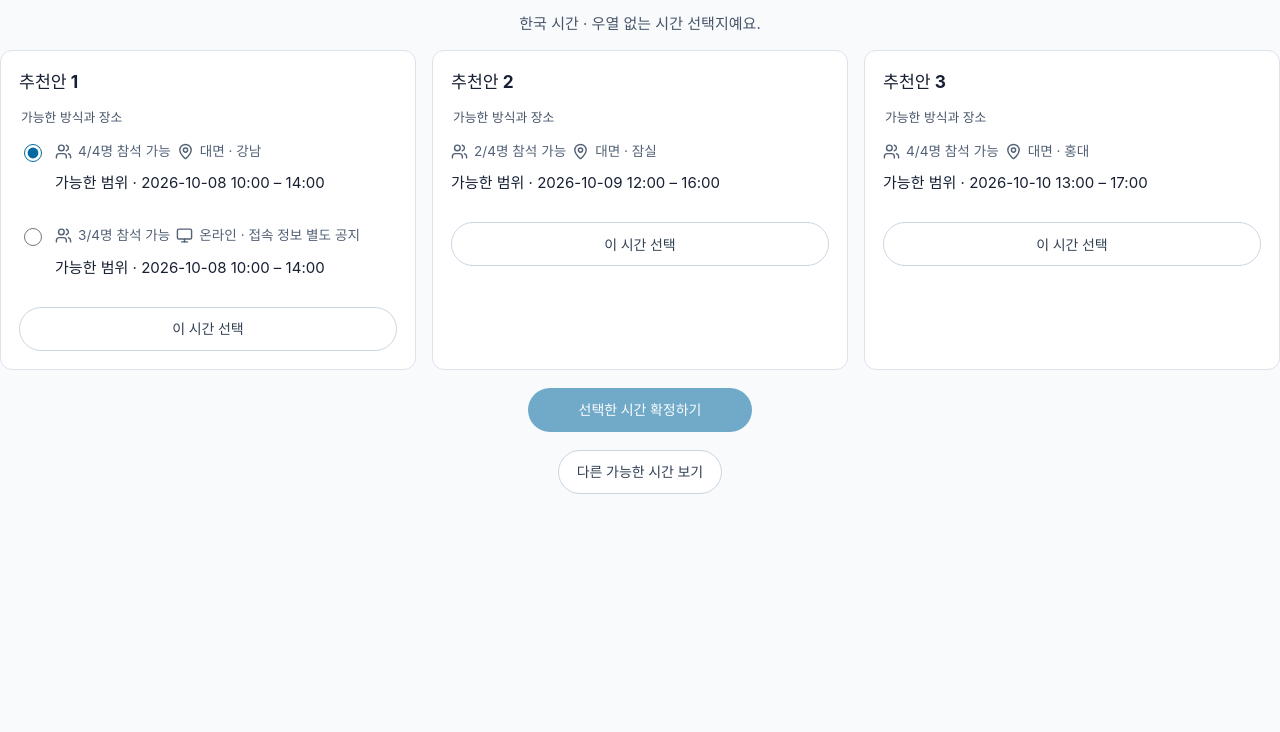
#19 recommendations as distinct offered times › limits primary recommendations to three and reveals overflow only on explicit request
This screenshot has width=1280, height=732.
Expected: the heading "다른 가능한 시간 4" is not shown
Expected: the text "건대" is not shown
Step 1. Click the button "다른 가능한 시간 보기" → (640, 472), box [558,450,722,494]
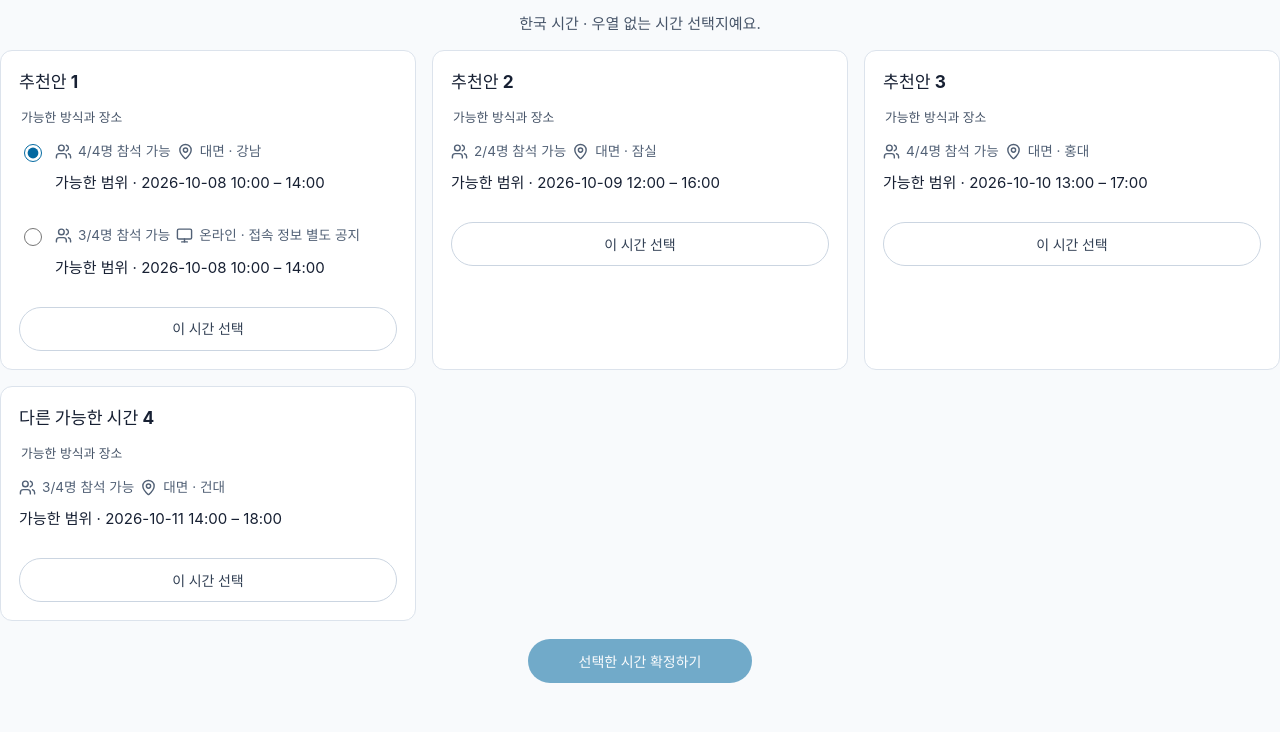
Now the heading "다른 가능한 시간 4" is shown, box [19,407,154,428]
Now the text "대면 · 건대" is shown, box [140,477,225,497]
